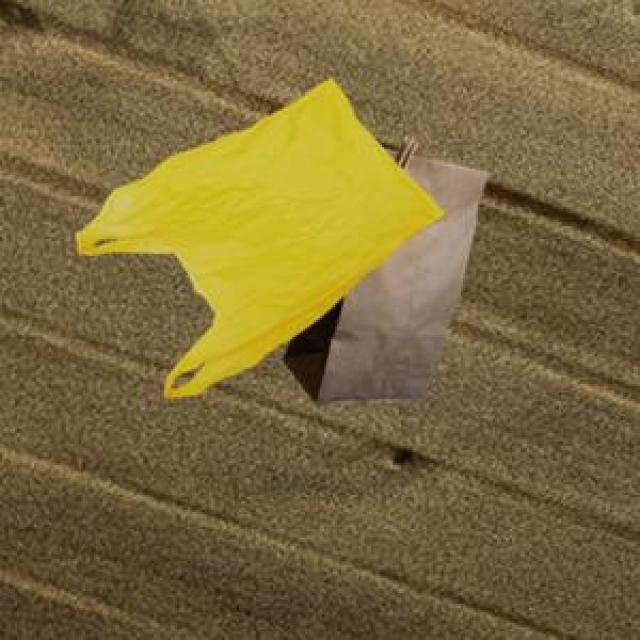paper: (280, 132, 483, 401)
